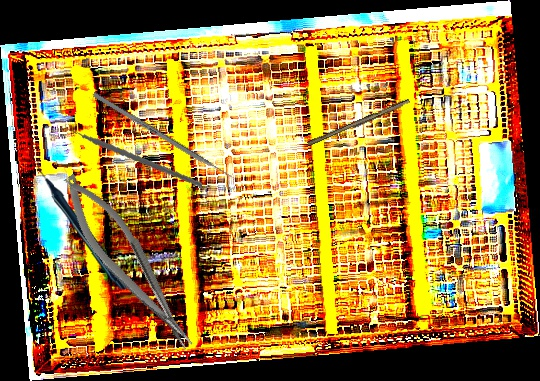Chopper: (63, 95, 203, 208)
Handpiece: (34, 160, 130, 289)
Needle Holder: (51, 163, 203, 363)
Pusher: (91, 91, 245, 187)
Scalpel Handle: (307, 96, 411, 150)
